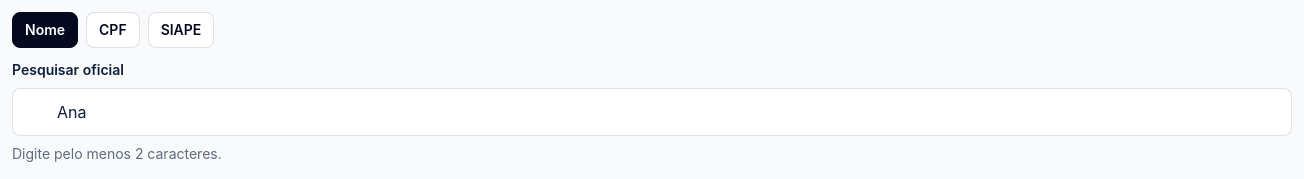
Test case: OfficialsSearchBox › switches to CPF, clears the previous name query, and keeps filters
What coordinates should you click on to do the following:
click the radio button labelled "CPF"
I would click on:
 (113, 30)
Its box is [86,12,140,48].
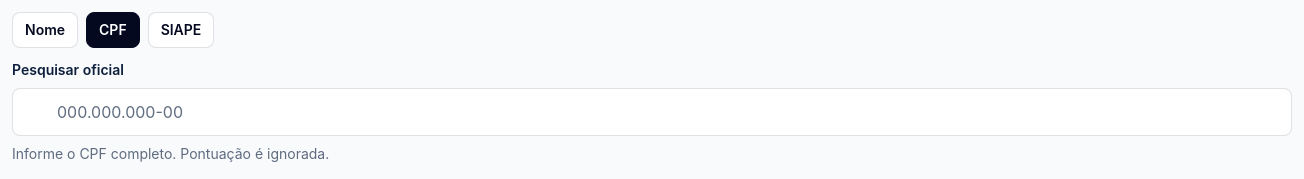
Result: the search field labelled "Pesquisar oficial" is empty at [12,88,1292,136]
Result: the text "Informe o CPF completo. Pontuação é ignorada." is shown at [12,145,329,162]
